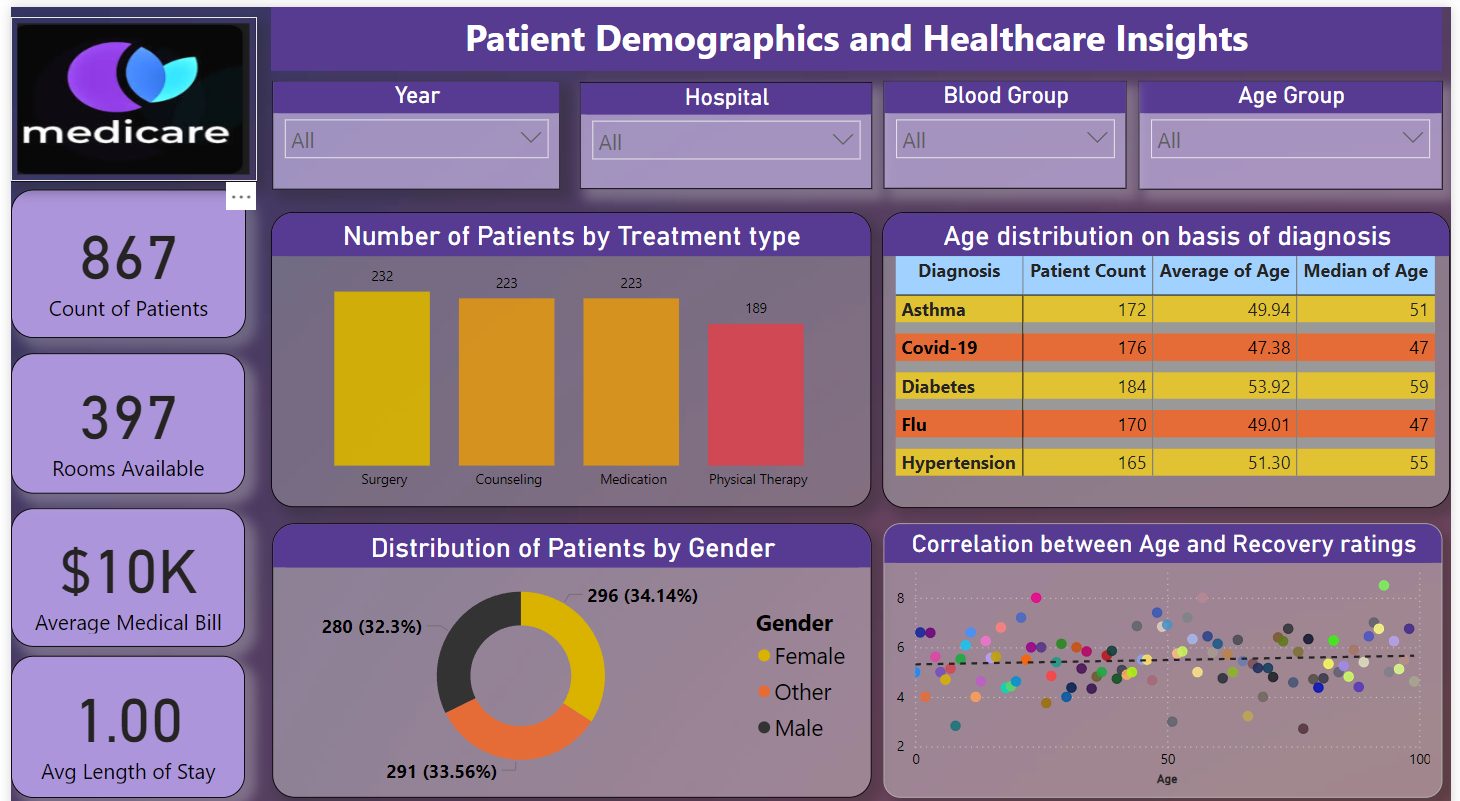

Layout of this report page (visuals, bound fields, positions):
{"tool":"powerbi","page":{"name":"Overview of  healthcare","canvas":[1280,720],"ordinal":0},"visuals":[{"type":"donutChart","title":"Distribution of Patients by Gender","fields":{"Category":["overall_data.Gender"],"Y":["CountNonNull(overall_data.PatientID)"]},"box":[232,459,533,244],"z":0},{"type":"columnChart","title":"Number of Patients by Treatment type","fields":{"Y":["CountNonNull(overall_data.PatientID)"],"Category":["overall_data.TreatmentType"]},"box":[231.4,182.1,533.4,262.4],"z":1000},{"type":"card","fields":{"Values":["CountNonNull(overall_data.PatientID)"]},"box":[0,161.7,208.9,131.7],"z":3000},{"type":"card","fields":{"Values":["Avg(overall_data.TotalBill)"]},"box":[0,445.1,208.4,123.3],"z":4000},{"type":"card","fields":{"Values":["Avg(overall_data.DaysInHospital)"]},"box":[0,576.9,208.4,126.2],"z":5000},{"type":"card","fields":{"Values":["Count(overall_data.RoomNumber)"]},"box":[0,307.6,208.4,124.7],"z":6000},{"type":"slicer","title":"Age Group ","fields":{"Values":["overall_data.AgeGroup"]},"box":[1002,65,270,97],"z":7000},{"type":"slicer","title":"Hospital ","fields":{"Values":["overall_data.Hospital"]},"box":[505,67,260,95],"z":8000},{"type":"slicer","title":"Blood Group","fields":{"Values":["overall_data.BloodType"]},"box":[775,66,216,96],"z":9000},{"type":"image","box":[0,8.5,218.4,146.4],"z":10000},{"type":"textbox","box":[231,0,1041,57],"z":11000},{"type":"slicer","title":"  Year","fields":{"Values":["overall_data.AdmissionDate.Variation.Date Hierarchy.Year"]},"box":[232,65,256,97],"z":12000},{"type":"scatterChart","title":"Correlation between Age and Recovery ratings ","fields":{"X":["overall_data.Age"],"Y":["Avg(overall_data.RecoveryRating)"]},"box":[775,459,497,244],"z":13000},{"type":"pivotTable","title":"Age distribution on  basis of diagnosis","fields":{"Values":["CountNonNull(overall_data.PatientID)","Avg(overall_data.Age)","Median(overall_data.Age)1"],"Rows":["overall_data.Diagnosis"]},"box":[774.7,182.3,505.1,263.3],"z":13001}]}

Visuals, with their boxes in screenshot pixels (x1, y1, x2, y2), scaled from the page's 1280x720 canvas onto the 1460x801 screenshot:
"Distribution of Patients by Gender" donutChart: <box>265,511,873,782</box>
"Number of Patients by Treatment type" columnChart: <box>264,203,872,495</box>
card - CountNonNull(overall_data.PatientID): <box>0,180,238,326</box>
card - Avg(overall_data.TotalBill): <box>0,495,238,632</box>
card - Avg(overall_data.DaysInHospital): <box>0,642,238,782</box>
card - Count(overall_data.RoomNumber): <box>0,342,238,481</box>
"Age Group " slicer: <box>1143,72,1451,180</box>
"Hospital " slicer: <box>576,75,873,180</box>
"Blood Group" slicer: <box>884,73,1130,180</box>
image: <box>0,9,249,172</box>
textbox: <box>263,0,1451,63</box>
"  Year" slicer: <box>265,72,557,180</box>
"Correlation between Age and Recovery ratings " scatterChart: <box>884,511,1451,782</box>
"Age distribution on  basis of diagnosis" pivotTable: <box>884,203,1459,496</box>
